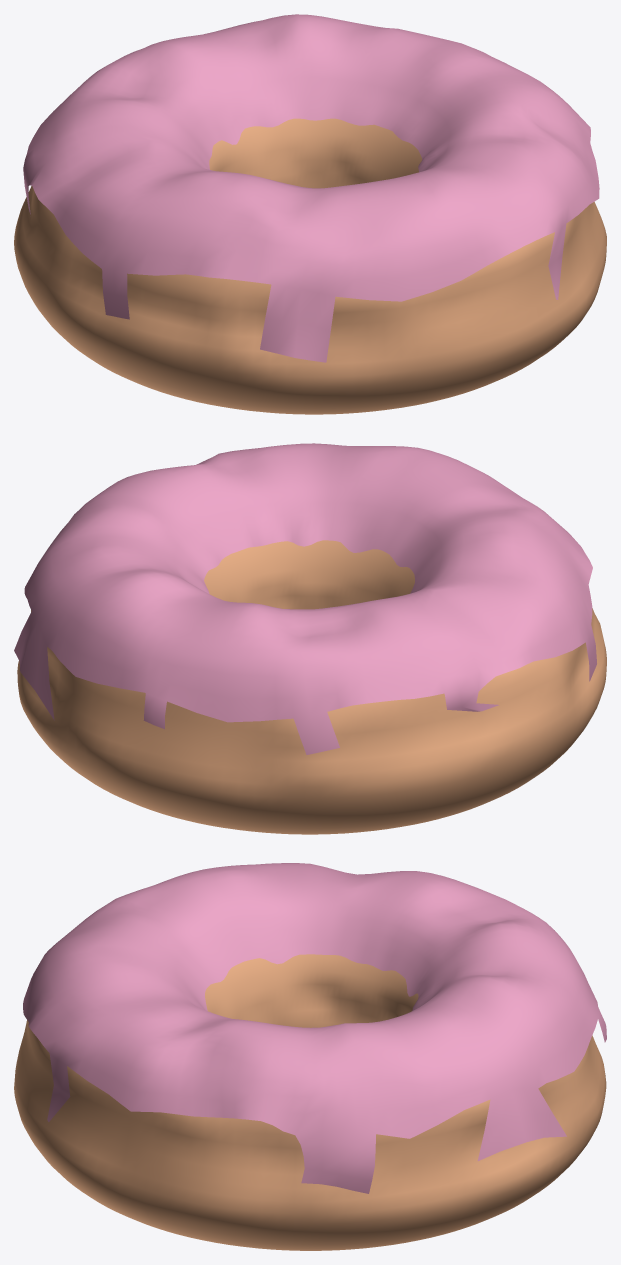
File: donut.glb
The picture shows the model from 3 angles, top to bottom: view 1: azimuth 30°, elevation 25°; view 2: azimuth 150°, elevation 25°; view 3: azimuth 270°, elevation 25°; orthographic projection.
Visible parts, largest first — view 1: Icing, Donut; view 2: Icing, Donut; view 3: Icing, Donut.
Boxes of the visible parts, box(x1,y1,x2,y2) form: Icing: box(23, 14, 599, 362); Donut: box(14, 118, 606, 414); Icing: box(14, 443, 596, 754); Donut: box(17, 540, 606, 834); Icing: box(23, 863, 606, 1193); Donut: box(14, 954, 606, 1250).
Bounding box in the file's own units: 0.1501 × 0.0597 × 0.1494.
